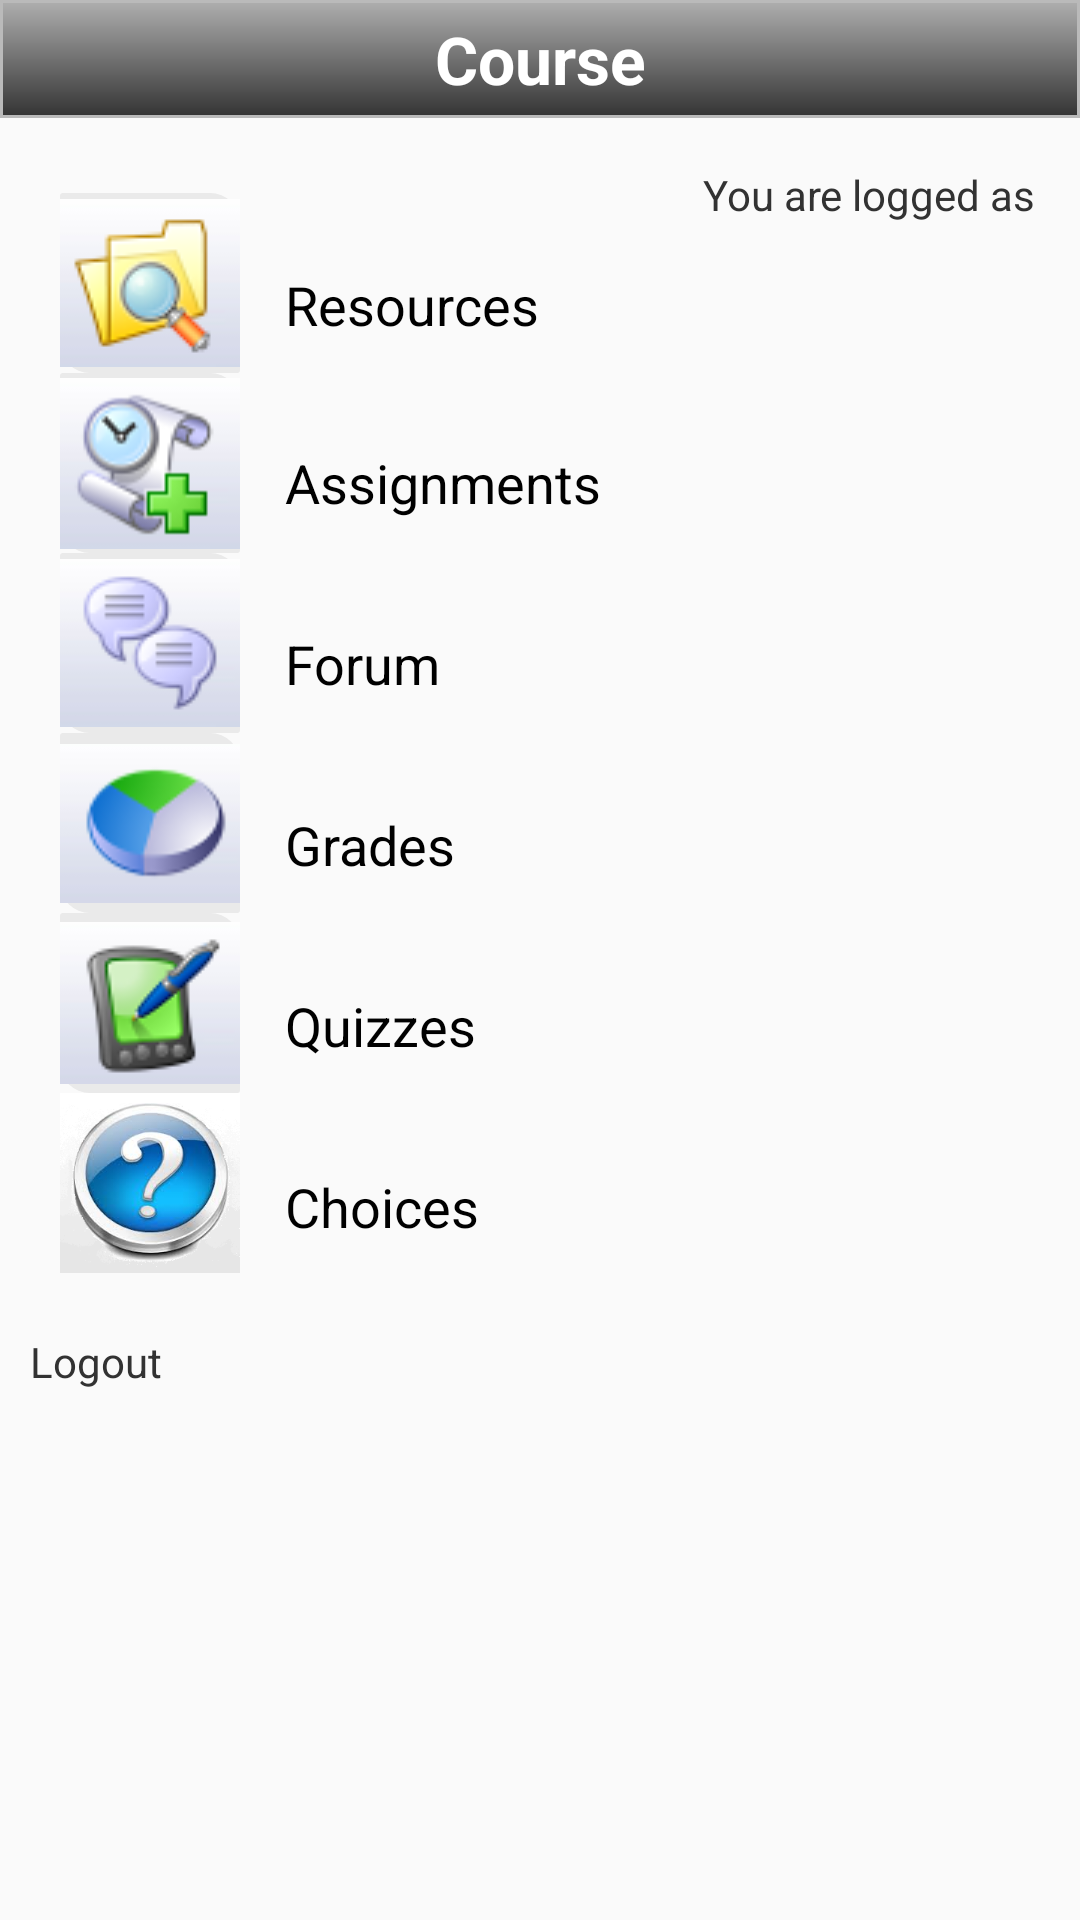

Icons on this 1080px×1920px Android screen, each with the point to tap as (x,y):
quizes: (150,1011)
